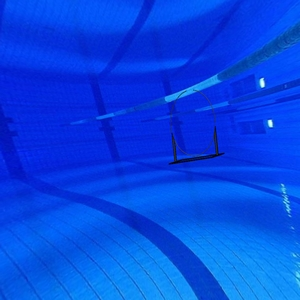circle: (167, 88, 227, 170)
